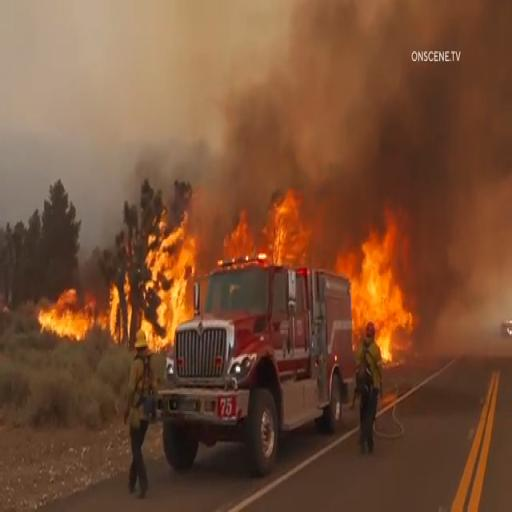fire: (114, 176, 218, 360), (337, 213, 413, 342), (223, 164, 316, 266), (35, 280, 109, 346)
smoke: (352, 69, 482, 210)
